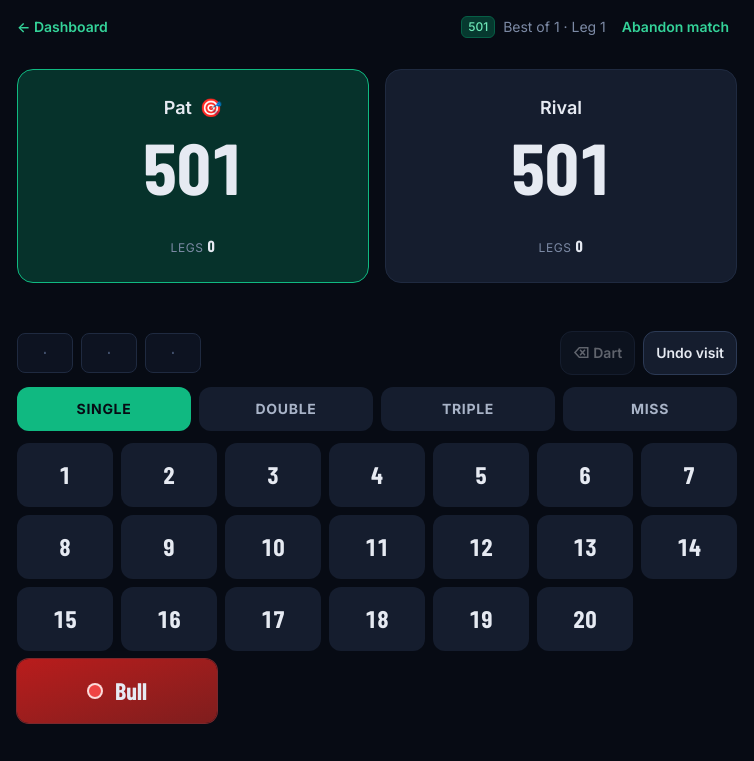
Scenario: LiveScoringPage Cricket, bot turn and undo › undoes the last visit and drops it from recent visits
Click the button "20".
click(585, 619)  # box [537,587,633,651]
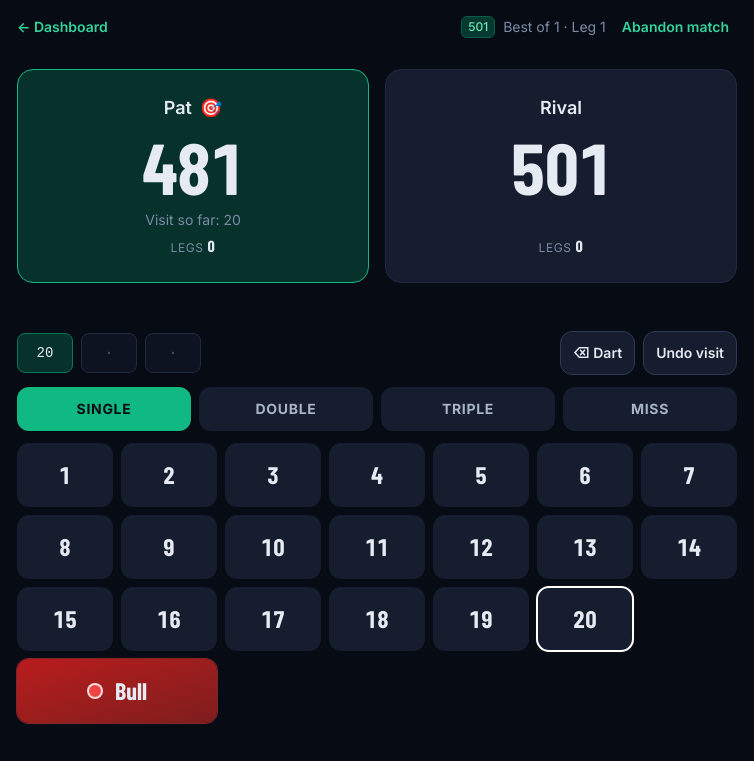
Click the button "20".
click(585, 619)  # box [537,587,633,651]
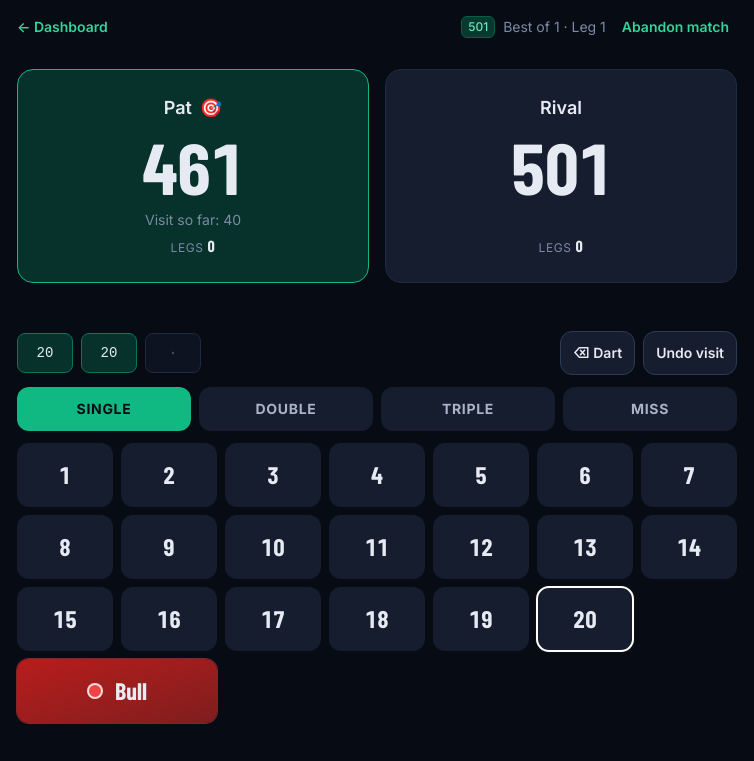
Click the button "20".
click(585, 619)  # box [537,587,633,651]
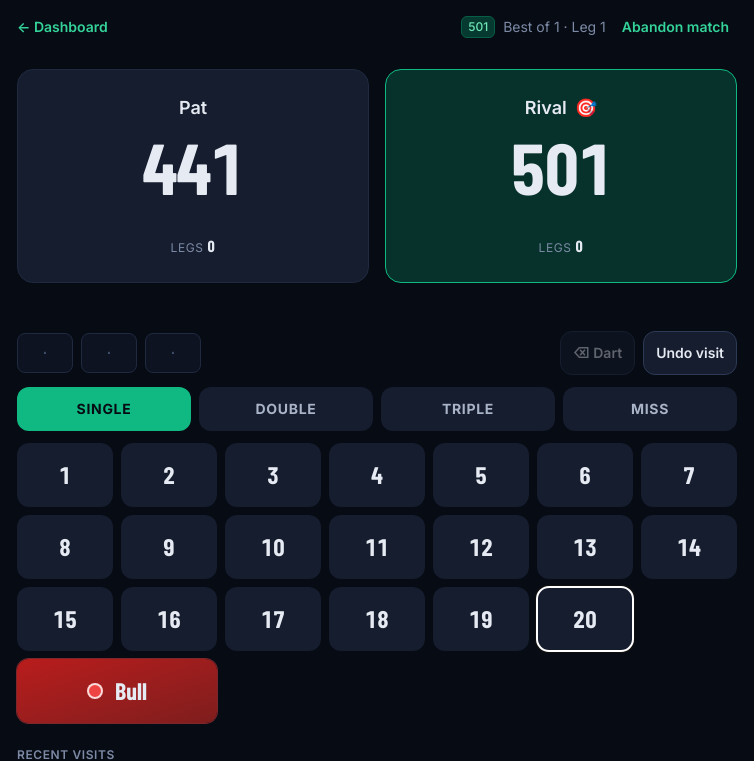
Expected: the text "441" is shown, [142,123,244,209]
Expected: the text "Recent visits" is shown, [17,747,115,760]
Click the button "Undo visit".
click(690, 353)  # box [643,331,737,375]
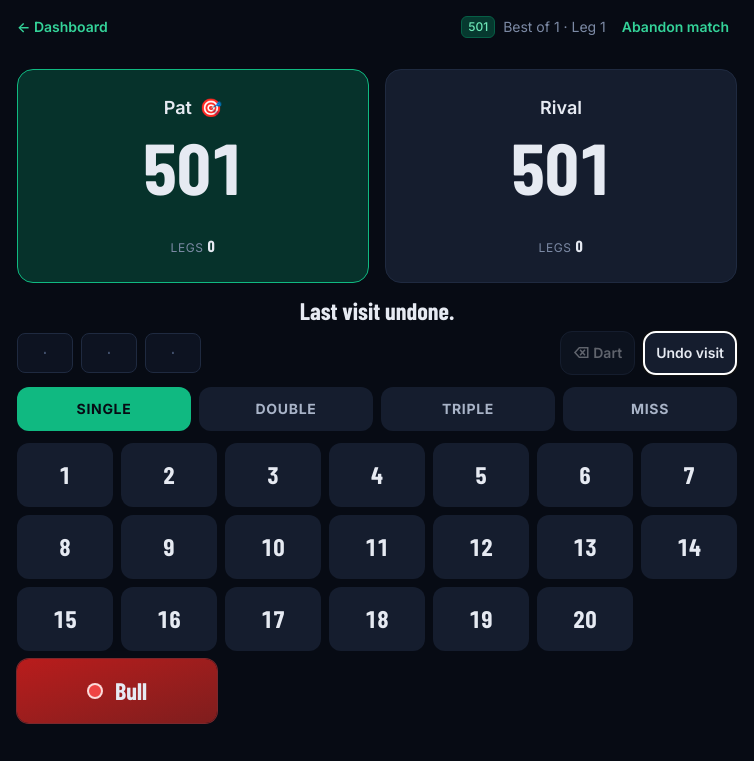
Expected: the text "501" is shown 3 times, [461,16,495,38]; [142,123,244,209]; [510,123,612,209]
Expected: the message reads "Last visit undone.", [300,296,454,325]
